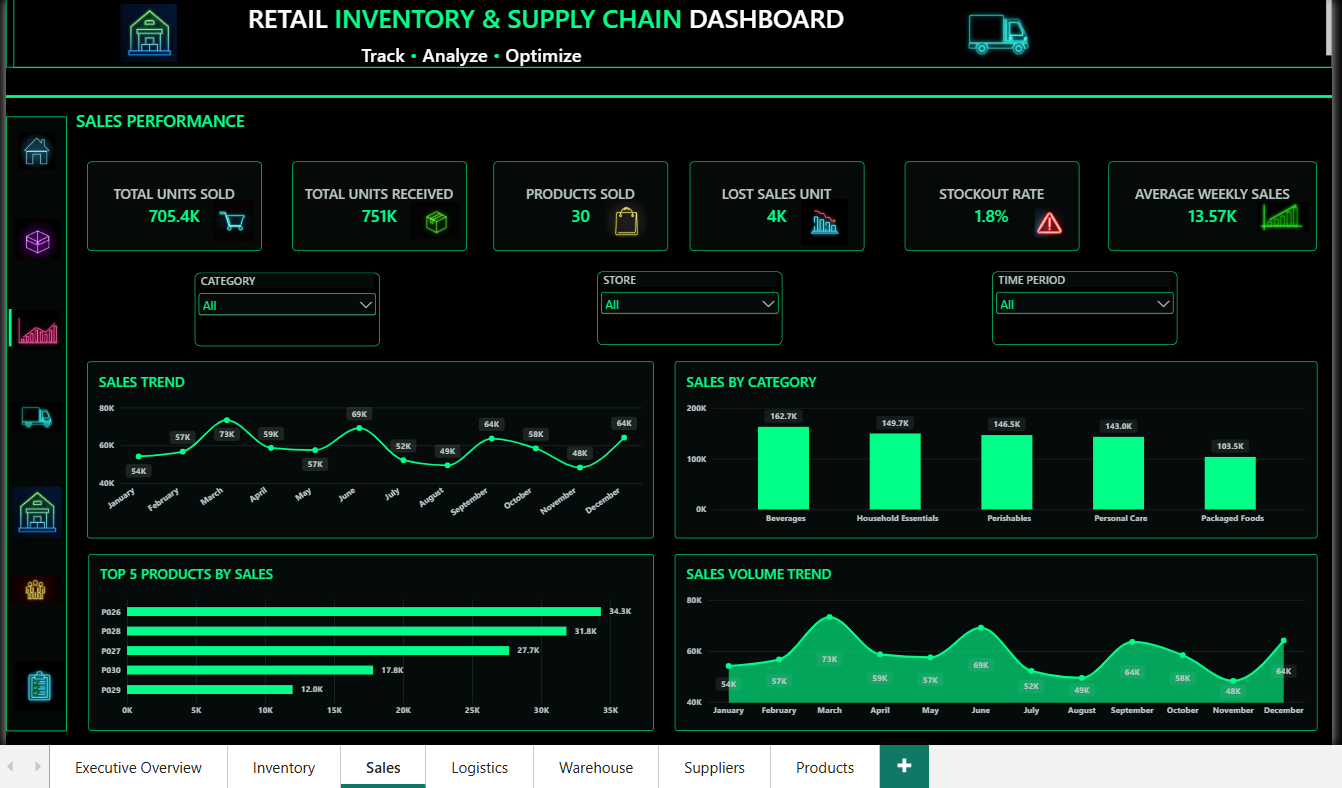

Layout of this report page (visuals, bound fields, positions):
{"tool":"powerbi","page":{"name":"Sales","canvas":[1920,1080],"ordinal":2},"visuals":[{"type":"shape","box":[10.3,0,1910.1,100],"z":0},{"type":"shape","box":[0,99.5,1920.1,83.2],"z":1000},{"type":"textbox","box":[0,0,1920.1,99.5],"z":2000},{"type":"image","box":[1356,0,156,100],"z":3000},{"type":"shape","box":[0,170,88,890],"z":4000},{"type":"image","box":[10.9,193.6,67,52.5],"z":5000},{"type":"shape","box":[0,448,12,54],"z":6000},{"type":"image","box":[12,300,66,94],"z":7000},{"type":"image","box":[12,418,66,122],"z":8000},{"type":"image","box":[4,560,78,92],"z":9000},{"type":"image","box":[8,706,74,74],"z":10000},{"type":"image","box":[6,780,74,150],"z":11000},{"type":"image","box":[12,932,72,124],"z":12000},{"type":"textbox","box":[102,142,290,52],"z":13000},{"type":"cardVisual","fields":{"Data":["inventory_ledger_clean.Total Units Sold"]},"box":[117.4,234.7,253,129.5],"z":14000},{"type":"cardVisual","fields":{"Data":["inventory_ledger_clean.Total Units Received"]},"box":[414.8,234.7,253,129.5],"z":15000},{"type":"cardVisual","fields":{"Data":["inventory_ledger_clean.Products Sold"]},"box":[706.2,234.7,253,129.5],"z":16000},{"type":"cardVisual","fields":{"Data":["inventory_ledger_clean.Lost Sales Units"]},"box":[989.5,234.7,253,129.5],"z":17000},{"type":"cardVisual","fields":{"Data":["inventory_ledger_clean.Stockout Rate"]},"box":[1301.2,234.7,253,129.5],"z":18000},{"type":"cardVisual","fields":{"Data":["inventory_ledger_clean.Average Weekly Sales"]},"box":[1596.6,234.7,301.5,129.5],"z":19000},{"type":"lineChart","title":"SALES TREND","fields":{"Category":["inventory_ledger_clean.week_start.Variation.Date Hierarchy.Month"],"Y":["Sum(inventory_ledger_clean.units_sold)"]},"box":[118,524,820,256],"z":20000},{"type":"stackedAreaChart","title":"SALES VOLUME TREND","fields":{"Category":["inventory_ledger_clean.week_start.Variation.Date Hierarchy.Month"],"Y":["Sum(inventory_ledger_clean.units_sold)"]},"box":[968,804,930,256],"z":21000},{"type":"clusteredBarChart","title":"TOP 5 PRODUCTS BY SALES","fields":{"Category":["inventory_ledger_clean.product_id"],"Y":["Sum(inventory_ledger_clean.units_sold)"]},"box":[120,804,818,256],"z":22000},{"type":"clusteredColumnChart","title":"SALES BY CATEGORY","fields":{"Category":["inventory_ledger_clean.category"],"Y":["Sum(inventory_ledger_clean.units_sold)"]},"box":[968,524,930,256],"z":23000},{"type":"slicer","fields":{"Values":["inventory_ledger_clean.category"]},"box":[274,396,268,106],"z":24000},{"type":"slicer","fields":{"Values":["inventory_ledger_clean.store_id"]},"box":[856,394,268,106],"z":25000},{"type":"slicer","fields":{"Values":["inventory_ledger_clean.week_start"]},"box":[1428,394,268,106],"z":26000},{"type":"image","box":[84,8,246,84],"z":27000},{"type":"image","box":[289.5,291.4,79.6,59.7],"z":28000},{"type":"image","box":[584.5,293.2,72.4,56.1],"z":29000},{"type":"image","box":[1141.9,289.5,86.9,67],"z":30000},{"type":"image","box":[1474.9,302.2,72.4,43.4],"z":31000},{"type":"image","box":[856,291.4,83.2,54.3],"z":32000},{"type":"image","box":[1811.5,273.3,74.2,83.2],"z":33000}]}

Visuals, with their boxes on the page's 1920x1080 design canvas (x1, y1, x2, y2). These are canvas units, not pixel positions in the 1342x788 screenshot, which may show the page scaled, cropped or inside an application window:
shape: [left=10, top=0, right=1920, bottom=100]
shape: [left=0, top=100, right=1920, bottom=183]
textbox: [left=0, top=0, right=1920, bottom=100]
image: [left=1356, top=0, right=1512, bottom=100]
shape: [left=0, top=170, right=88, bottom=1060]
image: [left=11, top=194, right=78, bottom=246]
shape: [left=0, top=448, right=12, bottom=502]
image: [left=12, top=300, right=78, bottom=394]
image: [left=12, top=418, right=78, bottom=540]
image: [left=4, top=560, right=82, bottom=652]
image: [left=8, top=706, right=82, bottom=780]
image: [left=6, top=780, right=80, bottom=930]
image: [left=12, top=932, right=84, bottom=1056]
textbox: [left=102, top=142, right=392, bottom=194]
cardVisual - inventory_ledger_clean.Total Units Sold: [left=117, top=235, right=370, bottom=364]
cardVisual - inventory_ledger_clean.Total Units Received: [left=415, top=235, right=668, bottom=364]
cardVisual - inventory_ledger_clean.Products Sold: [left=706, top=235, right=959, bottom=364]
cardVisual - inventory_ledger_clean.Lost Sales Units: [left=990, top=235, right=1242, bottom=364]
cardVisual - inventory_ledger_clean.Stockout Rate: [left=1301, top=235, right=1554, bottom=364]
cardVisual - inventory_ledger_clean.Average Weekly Sales: [left=1597, top=235, right=1898, bottom=364]
"SALES TREND" lineChart: [left=118, top=524, right=938, bottom=780]
"SALES VOLUME TREND" stackedAreaChart: [left=968, top=804, right=1898, bottom=1060]
"TOP 5 PRODUCTS BY SALES" clusteredBarChart: [left=120, top=804, right=938, bottom=1060]
"SALES BY CATEGORY" clusteredColumnChart: [left=968, top=524, right=1898, bottom=780]
slicer - inventory_ledger_clean.category: [left=274, top=396, right=542, bottom=502]
slicer - inventory_ledger_clean.store_id: [left=856, top=394, right=1124, bottom=500]
slicer - inventory_ledger_clean.week_start: [left=1428, top=394, right=1696, bottom=500]
image: [left=84, top=8, right=330, bottom=92]
image: [left=290, top=291, right=369, bottom=351]
image: [left=584, top=293, right=657, bottom=349]
image: [left=1142, top=290, right=1229, bottom=356]
image: [left=1475, top=302, right=1547, bottom=346]
image: [left=856, top=291, right=939, bottom=346]
image: [left=1812, top=273, right=1886, bottom=356]
